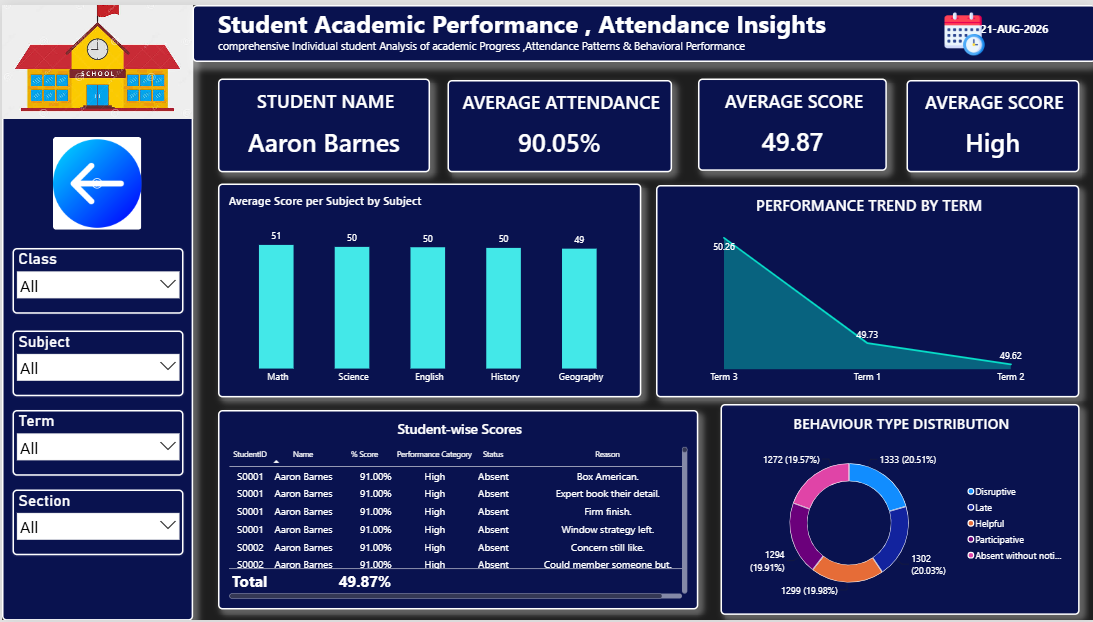

Layout of this report page (visuals, bound fields, positions):
{"tool":"powerbi","page":{"name":"STUDENT PROFILE","canvas":[1920,1080],"ordinal":1},"visuals":[{"type":"card","title":" STUDENT NAME","fields":{"Values":["Min(Students.Name)"]},"box":[379.4,128.8,372.2,164.6],"z":0},{"type":"textbox","box":[0,0,335,1080],"z":1000},{"type":"slicer","fields":{"Values":["Students.Class"]},"box":[17.5,425,300,115],"z":2000},{"type":"slicer","fields":{"Values":["Scores.Subject"]},"box":[17.5,570,300,115],"z":3000},{"type":"slicer","fields":{"Values":["Scores.Term"]},"box":[17.5,710,300,115],"z":4000},{"type":"slicer","fields":{"Values":["Students.Section"]},"box":[17.5,850,300,115],"z":5000},{"type":"image","box":[0,0,335,200],"z":6000},{"type":"card","title":"AVERAGE ATTENDANCE","fields":{"Values":["MEASURE.Attendance %"]},"box":[782.6,131.2,393.7,162.2],"z":7000},{"type":"card","title":"AVERAGE SCORE","fields":{"Values":["MEASURE.Average Score per Subject"]},"box":[1221.6,128.8,331.6,162.2],"z":8000},{"type":"clusteredColumnChart","fields":{"Category":["Scores.Subject"],"Y":["MEASURE.Average Score per Subject"]},"box":[380,312.5,742.5,375],"z":9000},{"type":"donutChart","title":" BEHAVIOUR TYPE DISTRIBUTION","fields":{"Category":["Behavior.BehaviorType"],"Y":["MEASURE.Behavior Count"]},"box":[1260,700,630,370],"z":10000},{"type":"textbox","box":[335,0,1585,100],"z":12000},{"type":"actionButton","box":[90,232.5,155,162.5],"z":13000},{"type":"card","title":"AVERAGE SCORE","fields":{"Values":["Min(Scores.Performance Category)"]},"box":[1586.6,131.2,303,162.2],"z":14000},{"type":"lineChart","title":"PERFORMANCE TREND BY TERM","fields":{"Category":["Scores.Term"],"Y":["MEASURE.Average Score per Subject"]},"box":[1147.5,315,742.5,372.5],"z":15001},{"type":"tableEx","title":"Student-wise Scores","fields":{"Values":["Attendance.StudentID","Students.Name","MEASURE.% Score","Scores.Performance Category","Attendance.Status","Attendance.Reason"]},"box":[380,710,842.5,350],"z":15002},{"type":"image","box":[1727.5,12.5,135,75],"z":15003}]}

Visuals, with their boxes in screenshot pixels (x1, y1, x2, y2), scaled from the page's 1920x1080 canvas onto the 1093x622 screenshot:
" STUDENT NAME" card: left=216, top=74, right=428, bottom=169
textbox: left=0, top=0, right=191, bottom=621
slicer - Students.Class: left=10, top=245, right=181, bottom=311
slicer - Scores.Subject: left=10, top=328, right=181, bottom=395
slicer - Scores.Term: left=10, top=409, right=181, bottom=475
slicer - Students.Section: left=10, top=490, right=181, bottom=556
image: left=0, top=0, right=191, bottom=115
"AVERAGE ATTENDANCE" card: left=446, top=76, right=670, bottom=169
"AVERAGE SCORE" card: left=695, top=74, right=884, bottom=168
clusteredColumnChart - Scores.Subject x MEASURE.Average Score per Subject: left=216, top=180, right=639, bottom=396
" BEHAVIOUR TYPE DISTRIBUTION" donutChart: left=717, top=403, right=1076, bottom=616
textbox: left=191, top=0, right=1092, bottom=58
actionButton: left=51, top=134, right=139, bottom=227
"AVERAGE SCORE" card: left=903, top=76, right=1076, bottom=169
"PERFORMANCE TREND BY TERM" lineChart: left=653, top=181, right=1076, bottom=396
"Student-wise Scores" tableEx: left=216, top=409, right=696, bottom=610
image: left=983, top=7, right=1060, bottom=50
